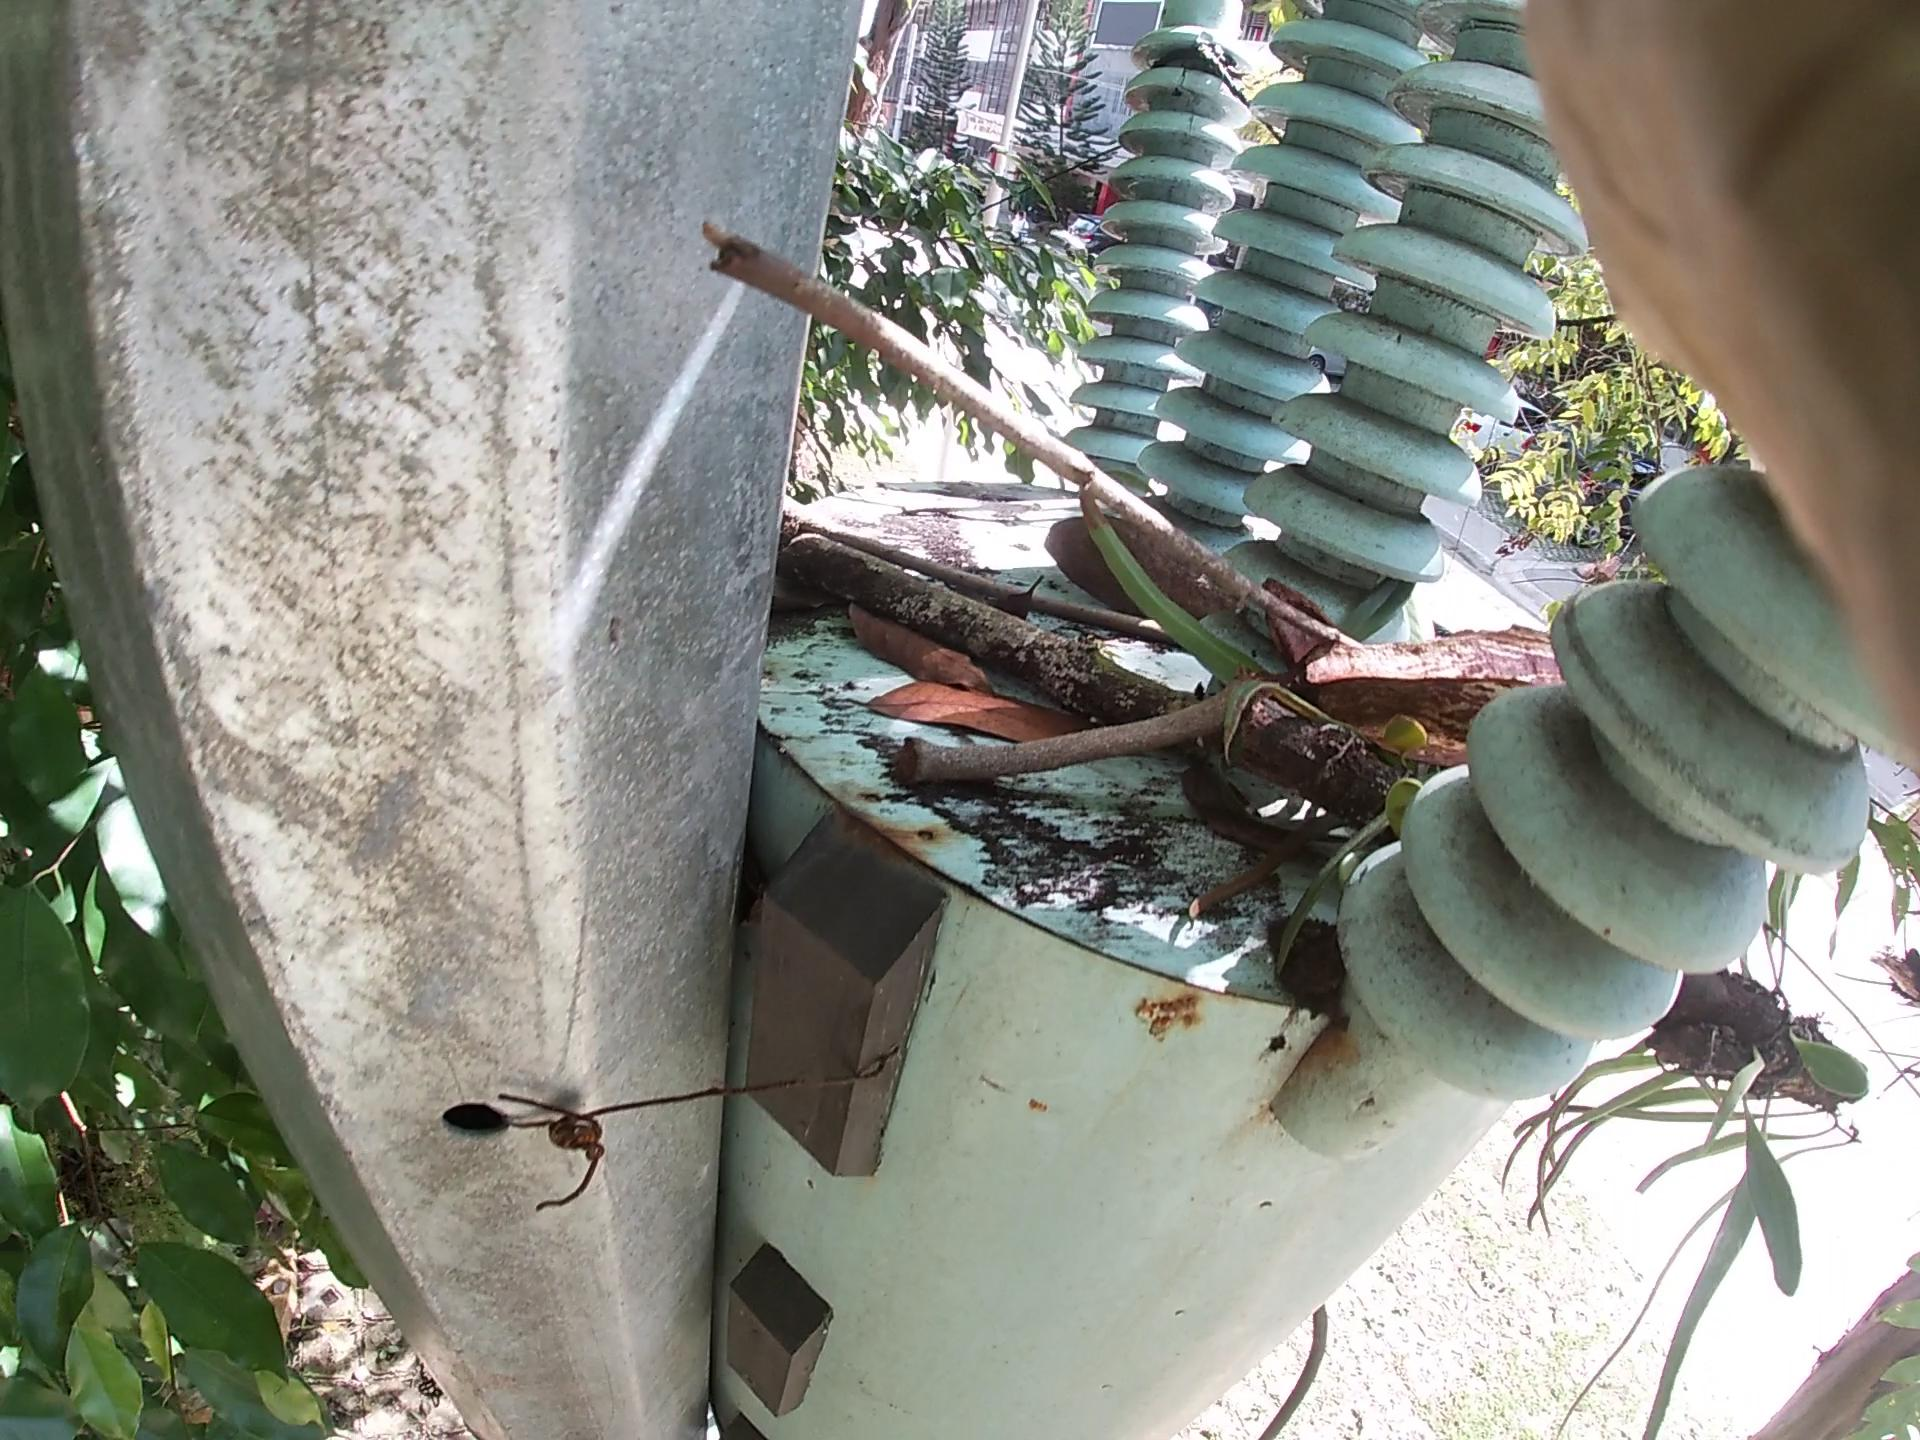branch with leaves: (777, 510, 1752, 889)
leaf: (874, 617, 1128, 784)
mahogany fruit: (1290, 582, 1633, 771), (1020, 470, 1323, 672)
tree branch: (714, 244, 1491, 800), (835, 495, 1181, 646), (897, 731, 1302, 821), (901, 479, 1113, 529)
